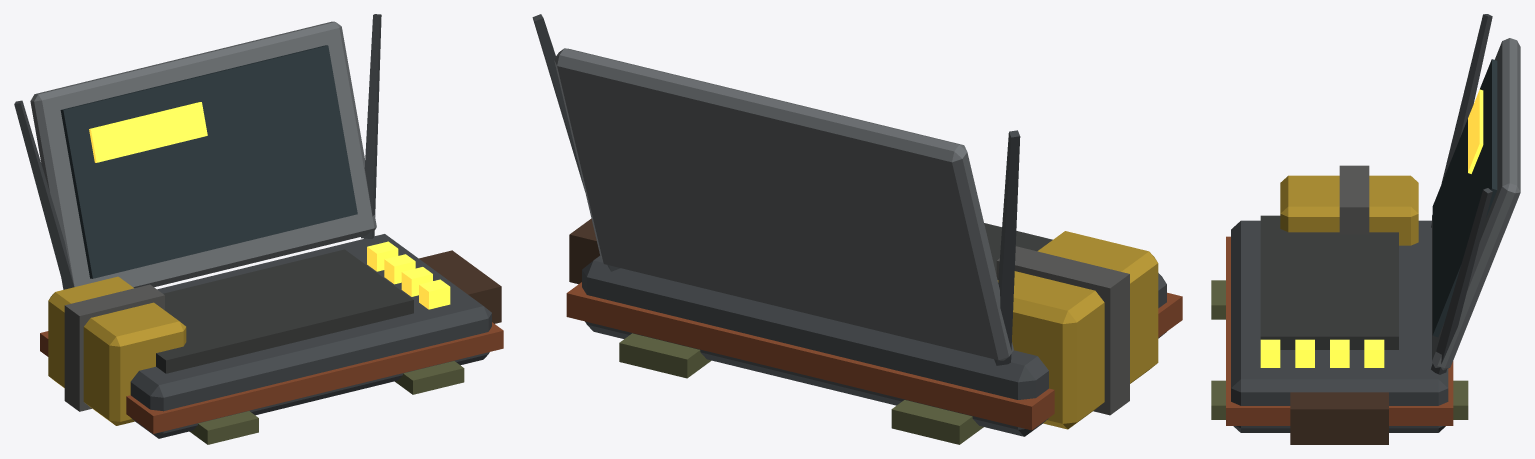
File: item_cyberdeck.glb
The picture shows the model from 3 angles, left to right: view 1: azimuth 30°, elevation 25°; view 2: azimuth 150°, elevation 25°; view 3: azimuth 270°, elevation 25°; orthographic projection. The views are drawn at different scales.
Parts seen in each view (by area): view 1: cyberdeck; view 2: cyberdeck; view 3: cyberdeck.
Boxes of the visible parts, bbox=[...] form: cyberdeck: bbox=[14, 14, 503, 444]; cyberdeck: bbox=[532, 14, 1182, 444]; cyberdeck: bbox=[1211, 14, 1520, 444].
Bounding box in the file's own units: 0.465 × 0.2851 × 0.3132.
